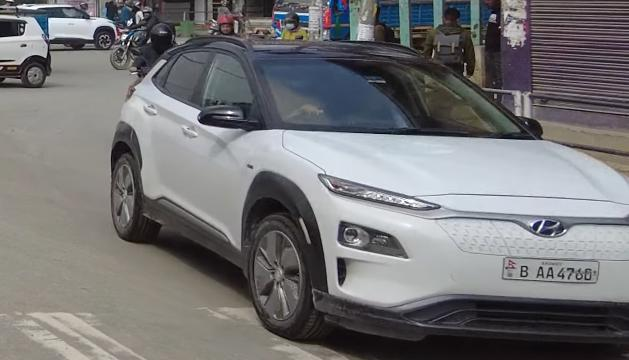bike: (107, 26, 152, 70)
car: (105, 23, 629, 348), (21, 1, 117, 51)
taxi: (0, 12, 55, 90)
